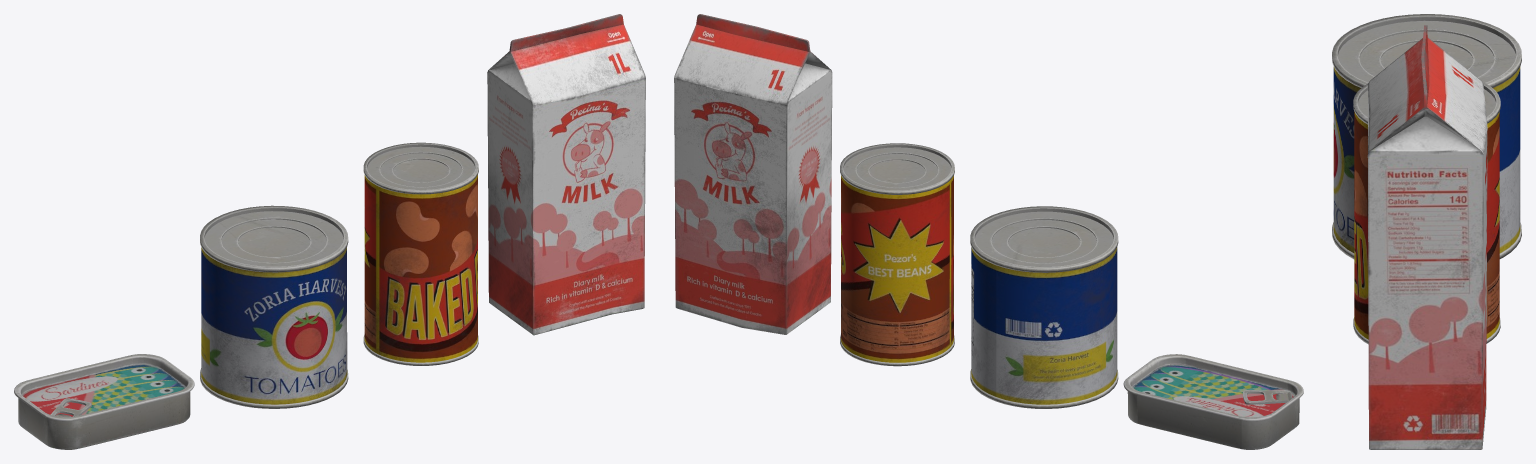
File: FoodPackets.obj
3 views of the same model, side by side, from view 1: azimuth 30°, elevation 25°; view 2: azimuth 150°, elevation 25°; view 3: azimuth 270°, elevation 25° (orthographic). The views are drawn at different scales.
Visible parts, largest first — view 1: Packets; view 2: Packets; view 3: Packets.
Part boxes in pixels (box(x1,y1,x2,y2)): Packets: box(14, 14, 645, 449); Packets: box(674, 14, 1303, 449); Packets: box(1332, 14, 1521, 449).
Bounding box in the file's own units: 0.5238 × 0.2376 × 0.1136.
1 material, 1 textured.
